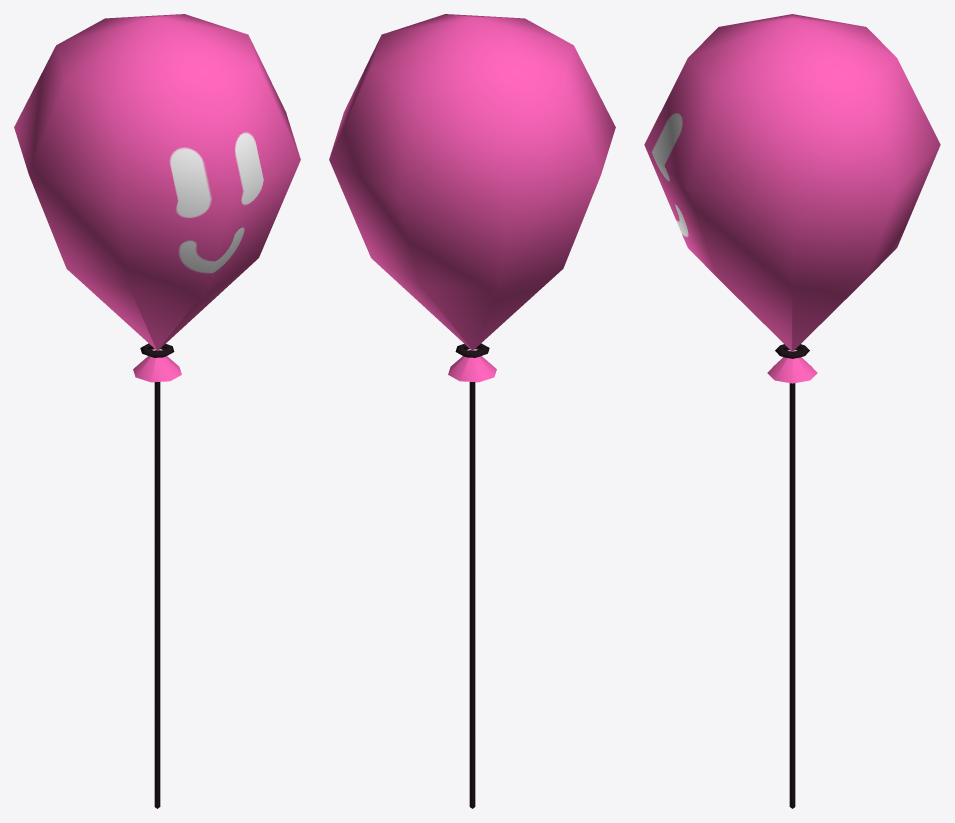
Rendered from baloon_hipoly.FBX.
3 views of the same model, side by side, from view 1: azimuth 30°, elevation 25°; view 2: azimuth 150°, elevation 25°; view 3: azimuth 270°, elevation 25° (orthographic).
Visible parts, largest first — view 1: Balloon002, Balloon_rope002; view 2: Balloon002, Balloon_rope002; view 3: Balloon002, Balloon_rope002.
Part boxes in pixels (x1=…): Balloon002: x1=14, y1=14, x2=300, y2=382; Balloon_rope002: x1=154, y1=382, x2=160, y2=808; Balloon002: x1=329, y1=14, x2=615, y2=382; Balloon_rope002: x1=469, y1=382, x2=475, y2=808; Balloon002: x1=644, y1=14, x2=940, y2=383; Balloon_rope002: x1=789, y1=383, x2=795, y2=808.
Size of the model in its own units: 969 by 2843 by 969.
